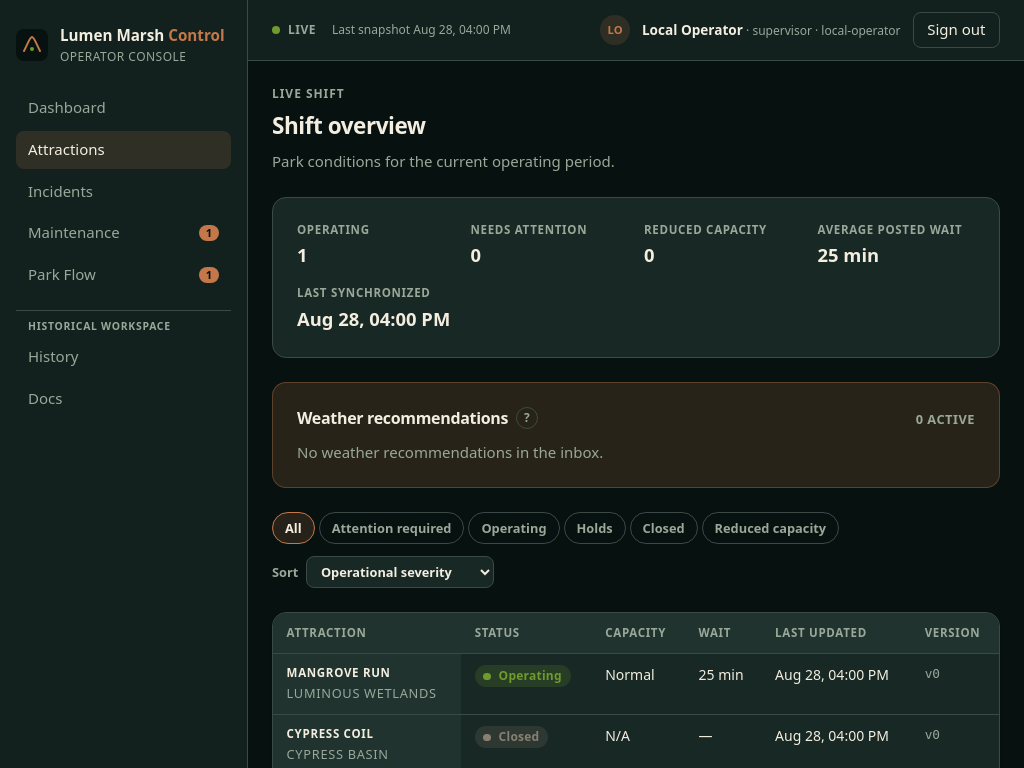
Test: live shift overview › keeps closed attractions in the closed filter and writes the view to the URL
Check: the link "Mangrove Run Luminous Wetlands" is shown, box [287, 665, 447, 702]
Click the button "Closed" at (664, 528), box [630, 512, 698, 544]
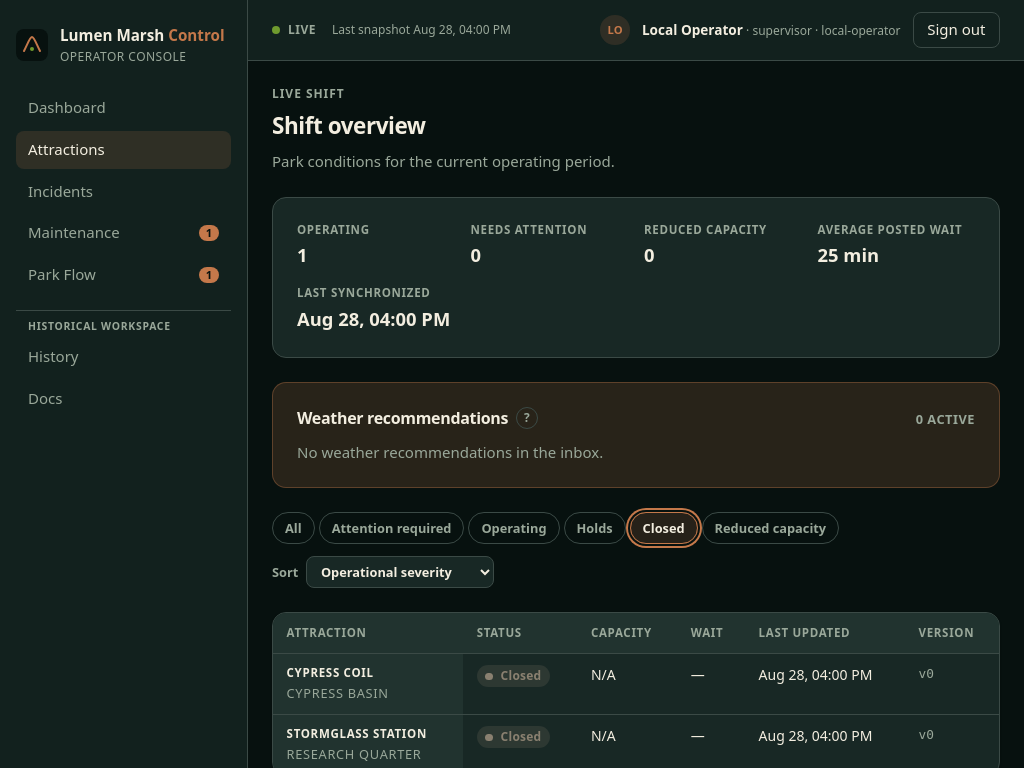
Check: the link "Cypress Coil Cypress Basin" is shown, box [287, 665, 389, 702]
Check: the link "Mangrove Run" is gone
